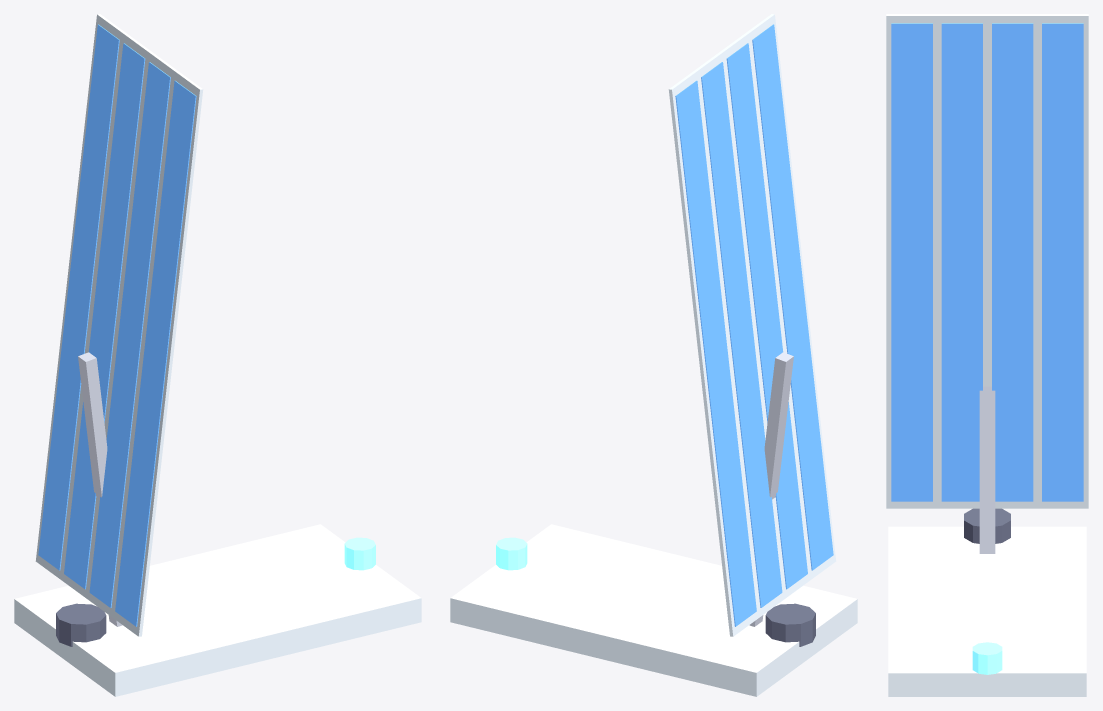
File: starlink.glb
The picture shows the model from 3 angles, left to right: view 1: azimuth 30°, elevation 25°; view 2: azimuth 150°, elevation 25°; view 3: azimuth 270°, elevation 25°; orthographic projection.
Visible parts, largest first — view 1: Spacecraft; view 2: Spacecraft; view 3: Spacecraft.
Part boxes in pixels (x1=…): Spacecraft: x1=14, y1=14, x2=421, y2=696; Spacecraft: x1=450, y1=14, x2=857, y2=696; Spacecraft: x1=886, y1=14, x2=1088, y2=696.
Size of the model in its own units: 5.75 by 10.37 by 3.26.
